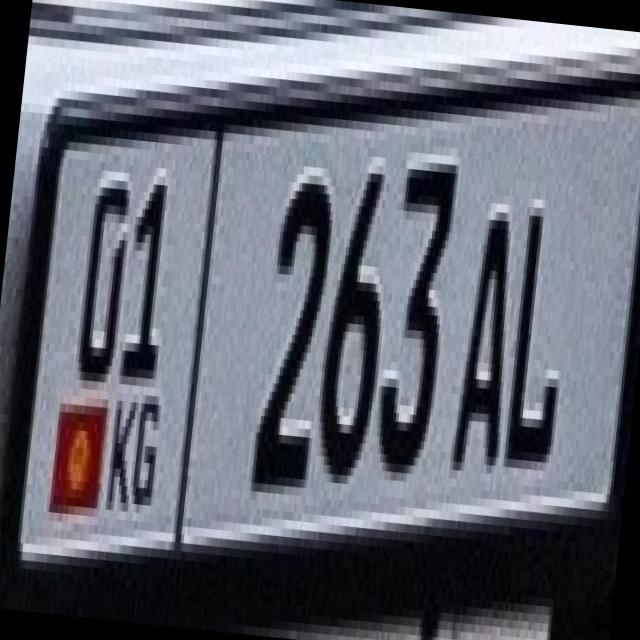0: (64, 160, 138, 375)
1: (102, 147, 187, 380)
2: (244, 154, 344, 480)
3: (362, 142, 463, 476)
6: (302, 136, 410, 478)
A: (430, 182, 534, 474)
L: (486, 180, 588, 463)
